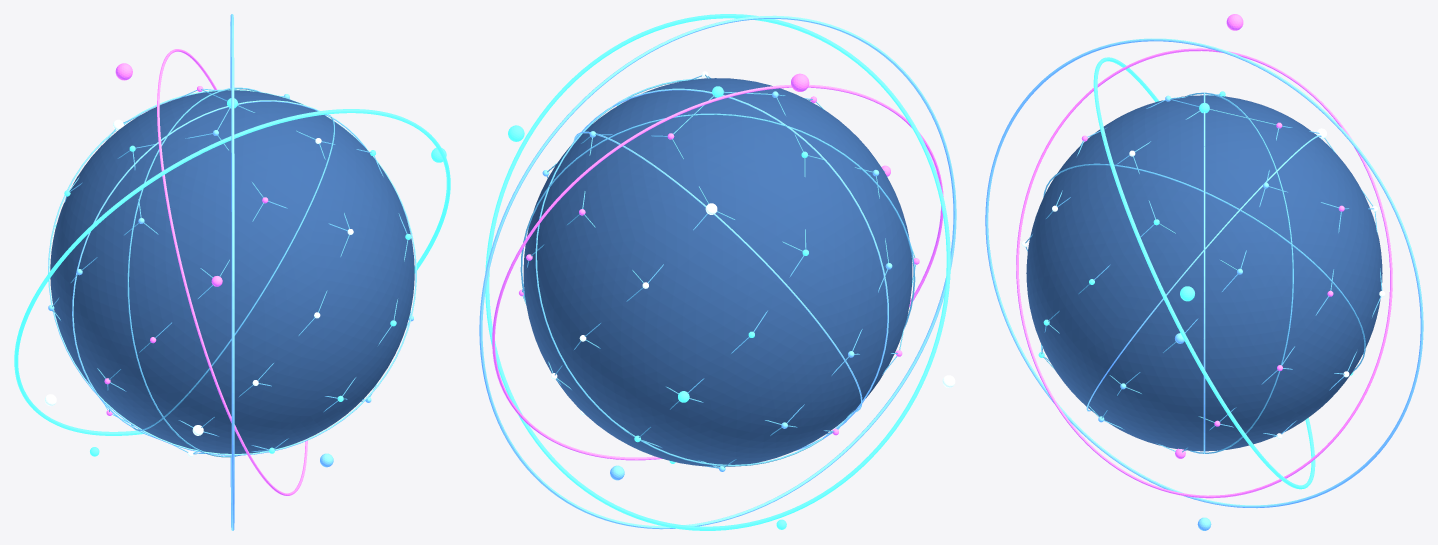
The model's file is zoombridge_b2b_intelligence_sphere.glb.
The picture shows the model from 3 angles, left to right: view 1: azimuth 30°, elevation 25°; view 2: azimuth 150°, elevation 25°; view 3: azimuth 270°, elevation 25°; orthographic projection. The views are drawn at different scales.
Visible parts, largest first — view 1: 01_B2B_Intelligence_Core, Orbit_Cyan, Orbit_Blue, Orbit_Violet; view 2: 01_B2B_Intelligence_Core, Orbit_Cyan, Orbit_Blue, Orbit_Violet; view 3: 01_B2B_Intelligence_Core, Orbit_Blue, Orbit_Violet, Orbit_Cyan.
Boxes of the visible parts, x1,y1,x2,y2 form: 01_B2B_Intelligence_Core: (50, 90, 414, 453); Orbit_Cyan: (14, 109, 450, 435); Orbit_Blue: (230, 14, 234, 530); Orbit_Violet: (157, 49, 307, 495); 01_B2B_Intelligence_Core: (523, 78, 912, 466); Orbit_Cyan: (485, 14, 950, 530); Orbit_Blue: (479, 15, 956, 529); Orbit_Violet: (492, 84, 943, 460); 01_B2B_Intelligence_Core: (1026, 95, 1382, 451); Orbit_Blue: (985, 38, 1423, 508); Orbit_Violet: (1016, 48, 1392, 498); Orbit_Cyan: (1093, 57, 1315, 489).
Bounding box in the file's own units: 2.8 × 2.98 × 2.58.
